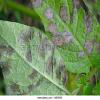Potato leaf early blight: (30, 0, 100, 74), (0, 20, 69, 95)
